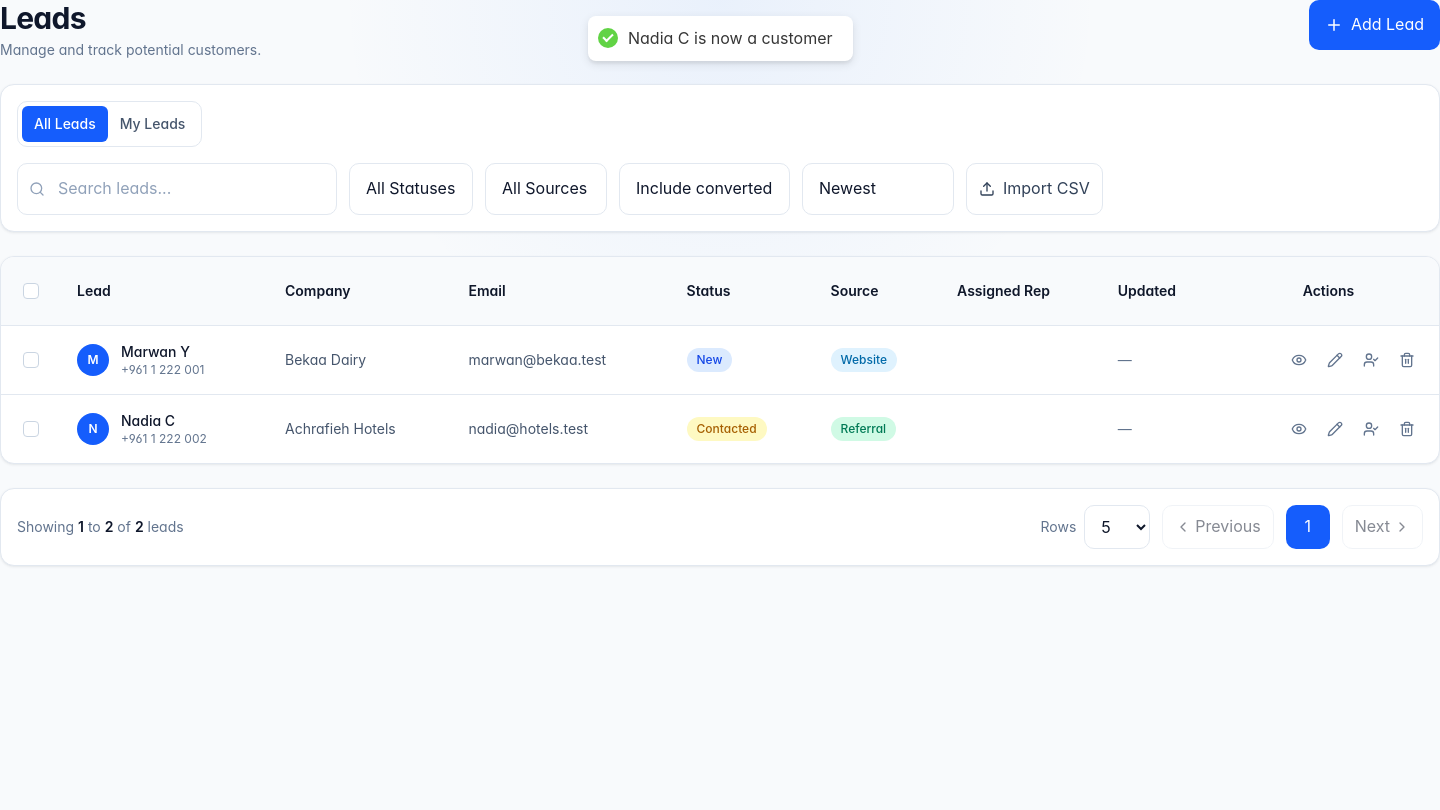
Lead — conversion › marks the lead converted in place and keeps the row
The image size is (1440, 810).
Step 1. Click the button named "Convert Nadia C to a customer" → (1371, 429), box [1355, 413, 1387, 445]
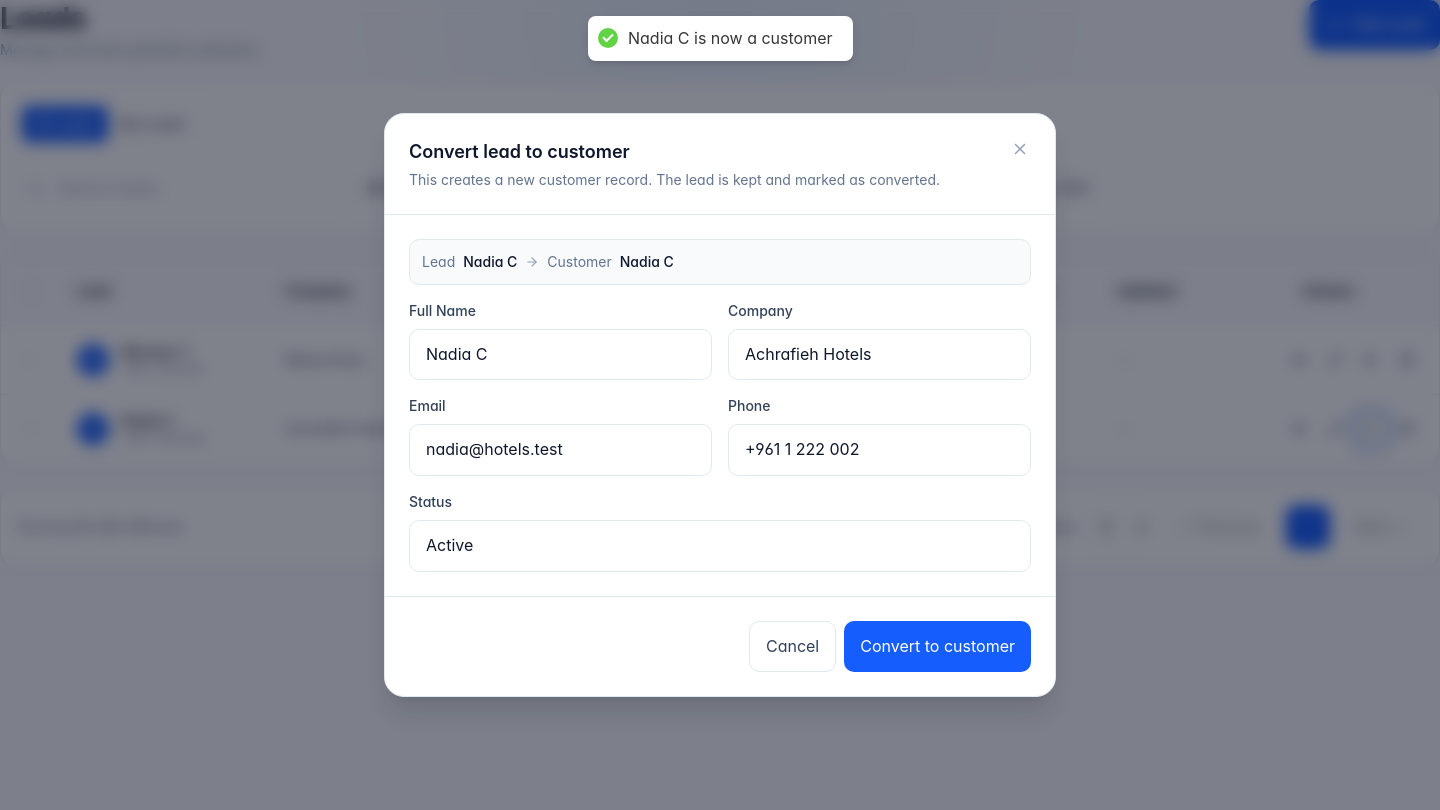
Step 2. Click the button "Convert to customer" → (938, 646), box [844, 621, 1031, 672]
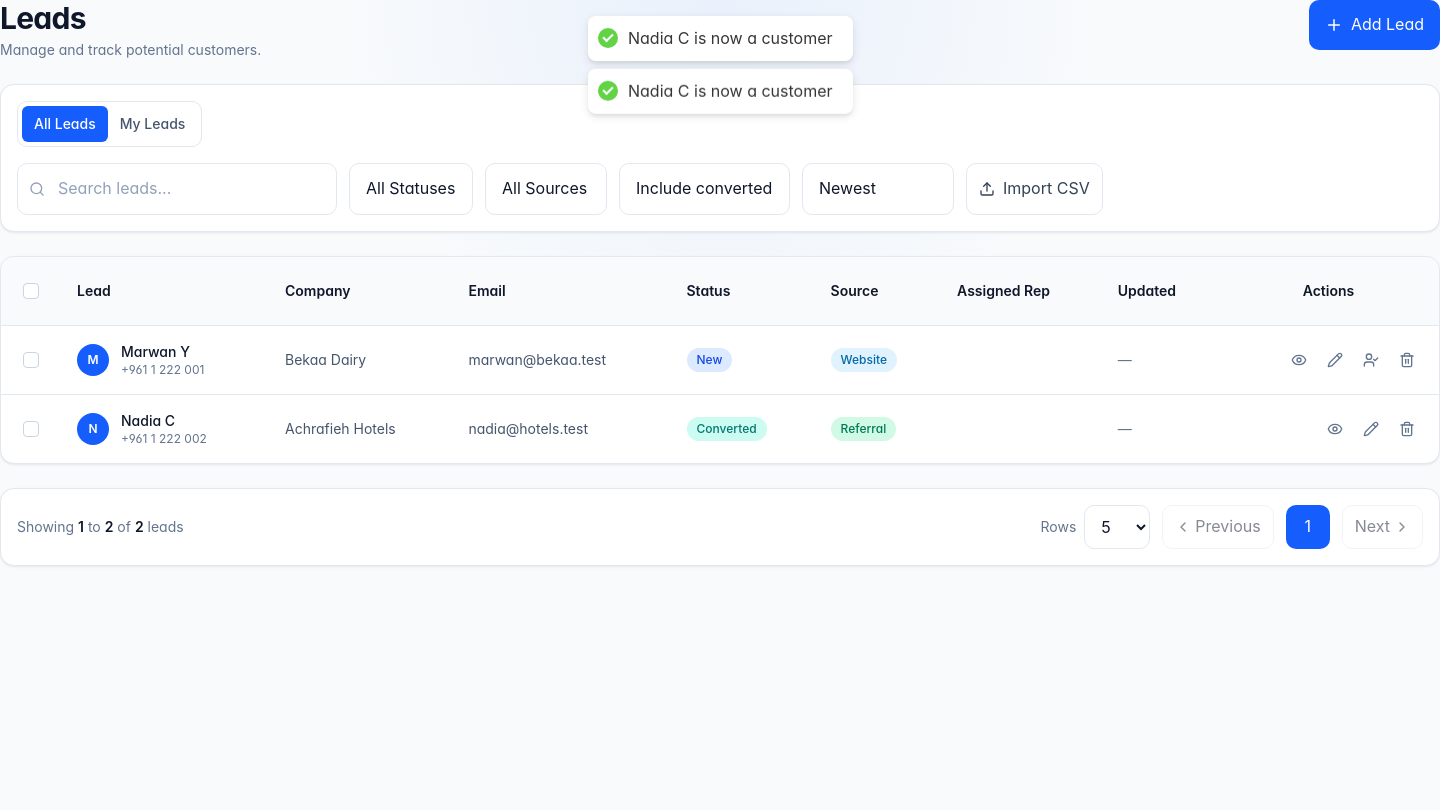
Expected: the text "Converted" is shown, [686, 417, 767, 441]
